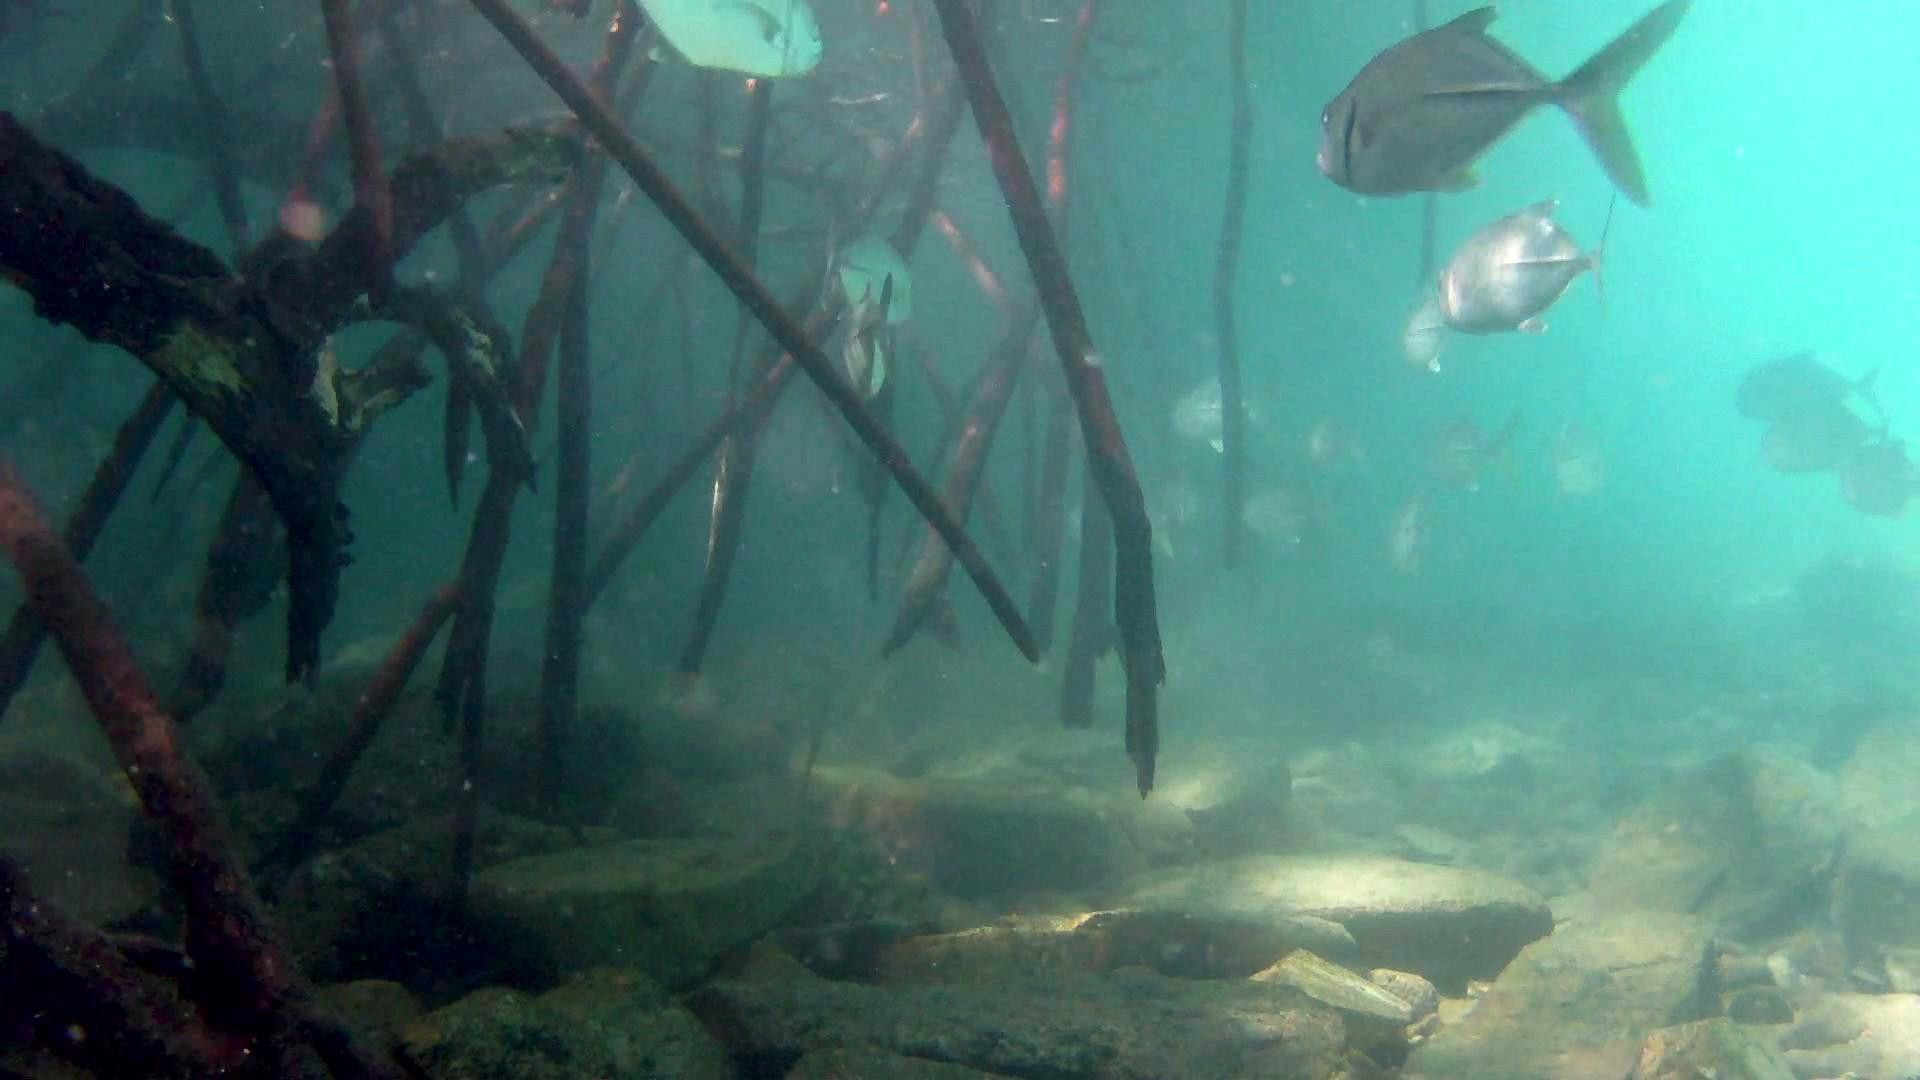caranx: (1310, 0, 1698, 211), (1429, 187, 1621, 340), (627, 0, 830, 81)
